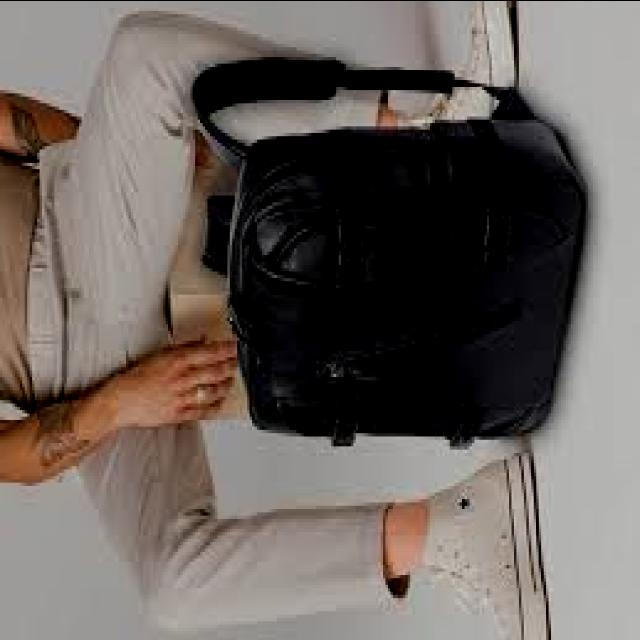backpack: (190, 38, 604, 452)
